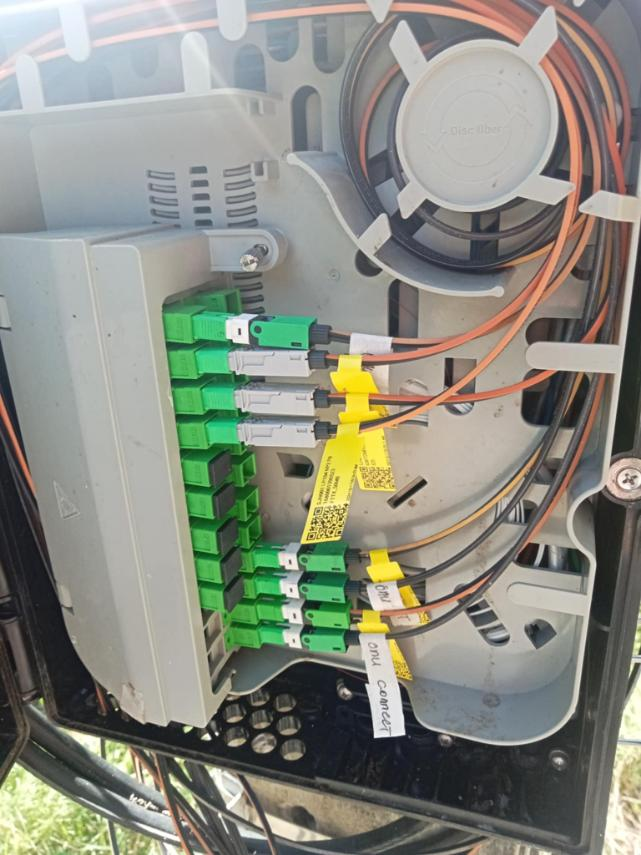no dust cap: (224, 289, 243, 320), (225, 318, 244, 349), (236, 424, 255, 455), (239, 454, 257, 485), (243, 488, 260, 519), (234, 395, 254, 420), (247, 516, 263, 547), (231, 358, 249, 383)
no port: (207, 636, 226, 678), (204, 611, 223, 653)
occupied: (193, 314, 330, 347), (197, 347, 327, 379), (202, 387, 332, 418), (205, 419, 335, 450), (258, 593, 355, 630), (255, 572, 363, 605), (258, 540, 363, 572), (257, 621, 351, 654)
vacant: (210, 451, 234, 485), (220, 548, 242, 584), (217, 520, 240, 553), (213, 482, 236, 515), (225, 576, 246, 612)
